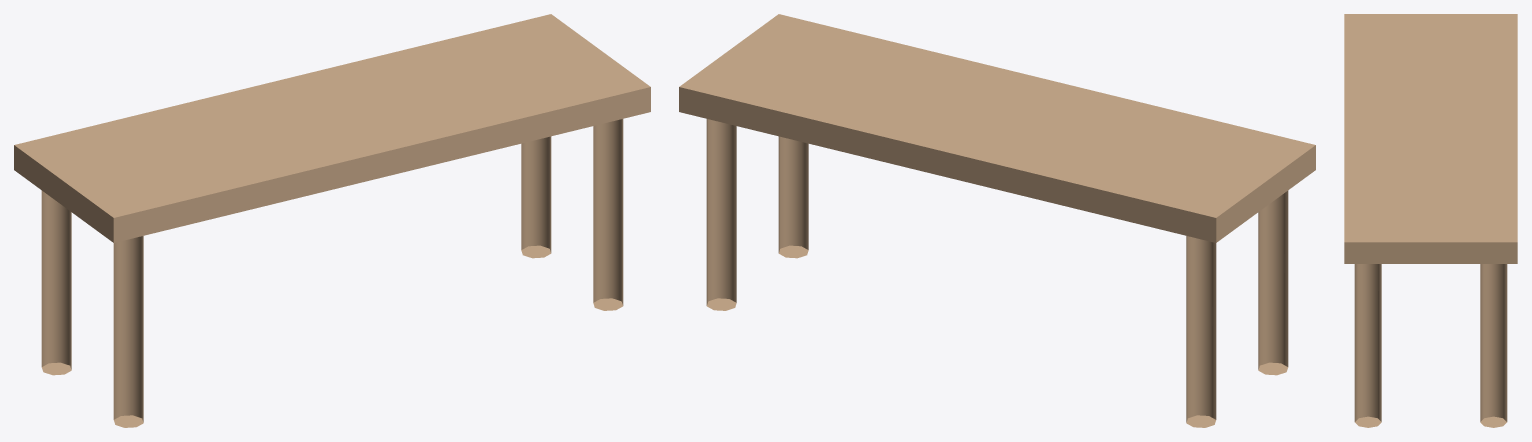
Rendered from bench_03.glb.
The picture shows the model from 3 angles, left to right: view 1: azimuth 30°, elevation 25°; view 2: azimuth 150°, elevation 25°; view 3: azimuth 270°, elevation 25°; orthographic projection. The views are drawn at different scales.
Bounding box in the file's own units: 1.12 × 0.44 × 0.36.
